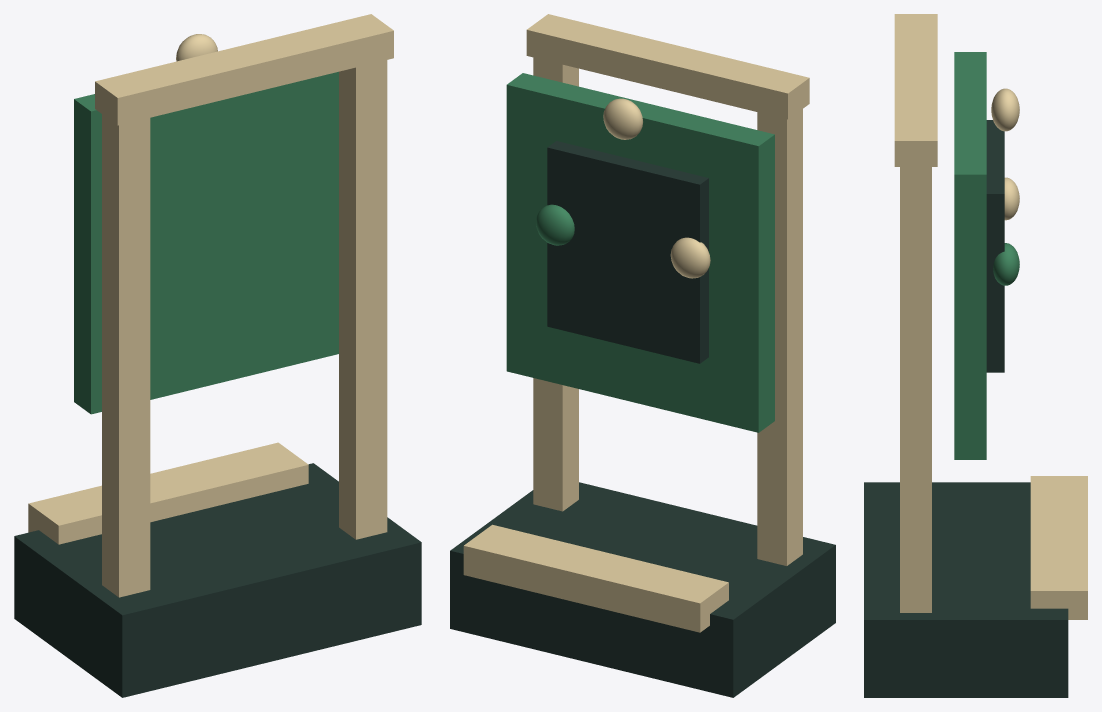
File: fanstand.forest-lanterns-old.glb
The picture shows the model from 3 angles, left to right: view 1: azimuth 30°, elevation 25°; view 2: azimuth 150°, elevation 25°; view 3: azimuth 270°, elevation 25°; orthographic projection. The views are drawn at different scales.
Parts seen in each view (by area): view 1: support plinth; view 2: support plinth; view 3: support plinth.
Part boxes in pixels (left/top/right/bottom): support plinth: left=14, top=14, right=421, bottom=697; support plinth: left=450, top=14, right=835, bottom=697; support plinth: left=864, top=14, right=1087, bottom=697.
Size of the model in its own units: 0.91 by 1.7 by 0.625.
